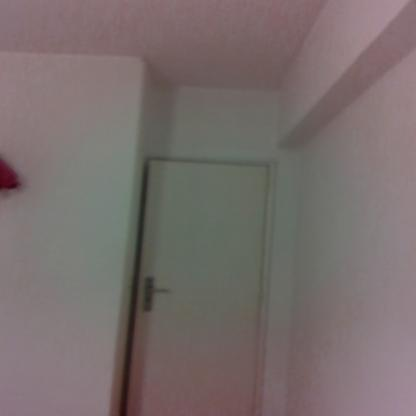door: (142, 162, 267, 416)
hinged: (259, 290, 264, 306), (250, 406, 258, 416), (266, 178, 269, 196)
lever: (148, 286, 173, 294)
